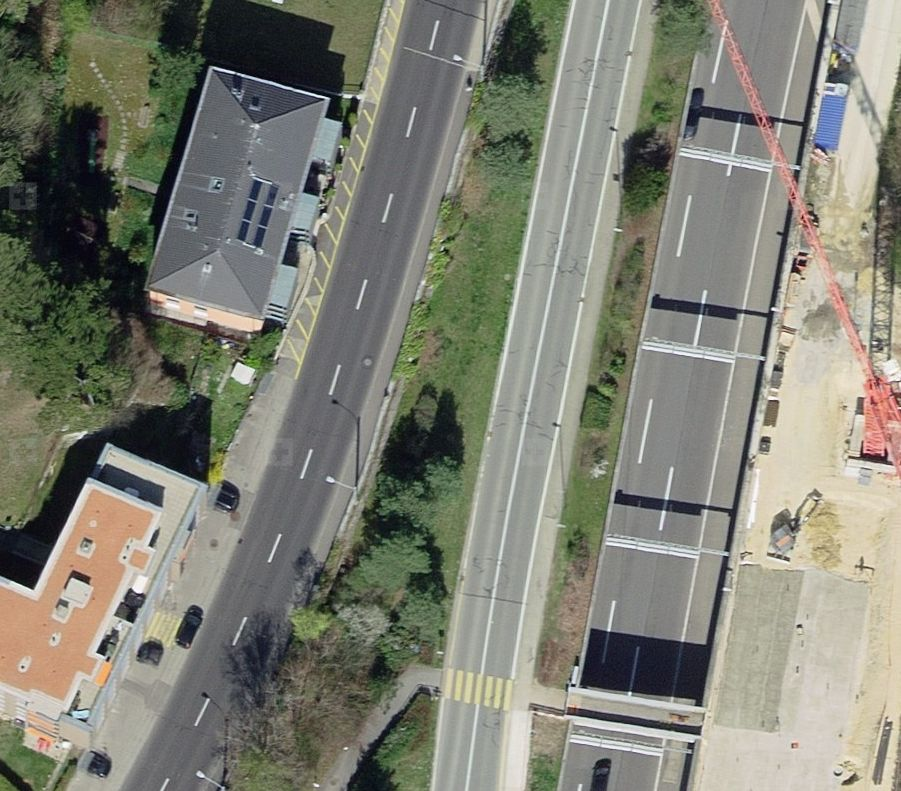solar: (228, 168, 283, 263)
